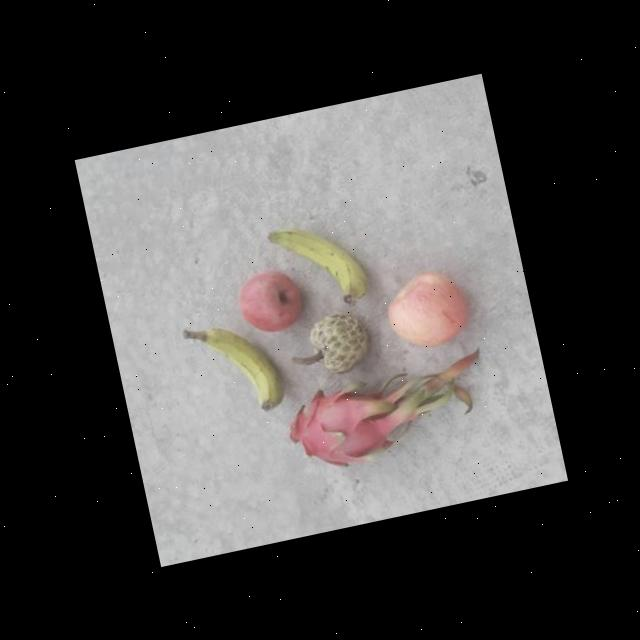Sakya fruit: (299, 300, 377, 380)
apple: (378, 264, 478, 360), (229, 260, 307, 346)
banana: (262, 212, 372, 326), (192, 315, 285, 428)
pitaya: (277, 368, 409, 482)
